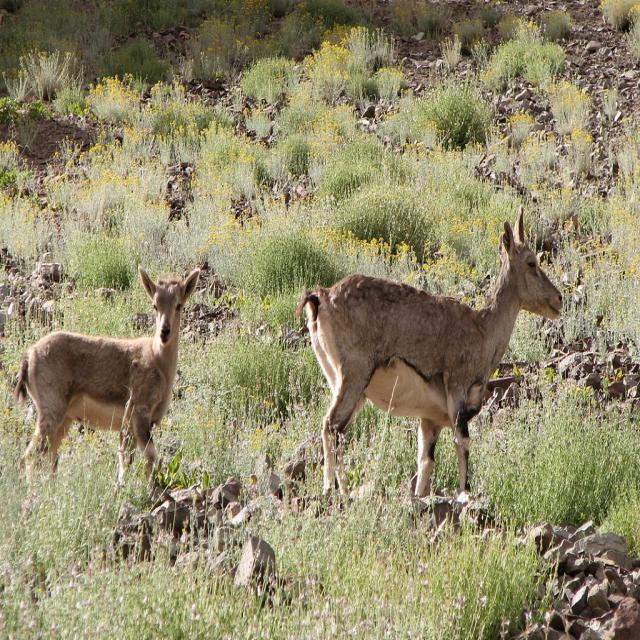Deer: (294, 205, 563, 506), (12, 263, 200, 502)
